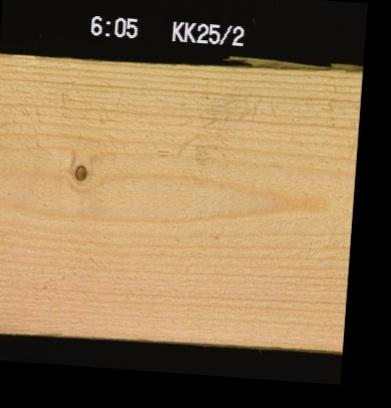dry_knot: (71, 161, 87, 181)
